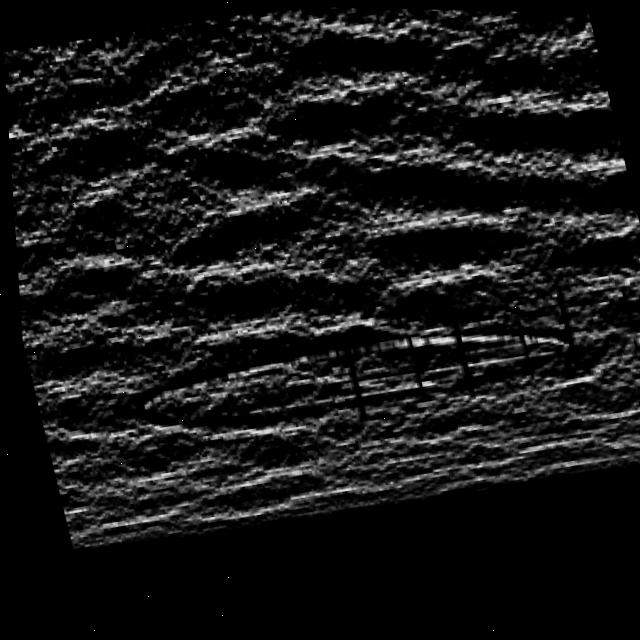shipwreck: (103, 291, 589, 464)
